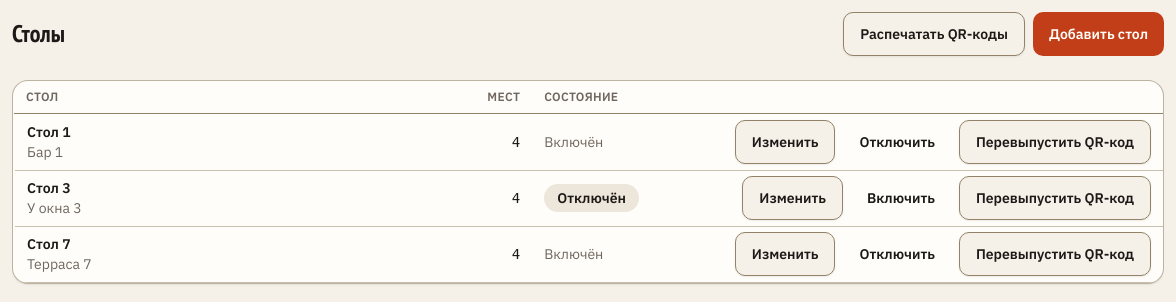
Test: TablesTable › puts a table back into service in one press
This screenshot has width=1176, height=302.
Click the button "Включить": [901, 198] box [851,176,951,220]
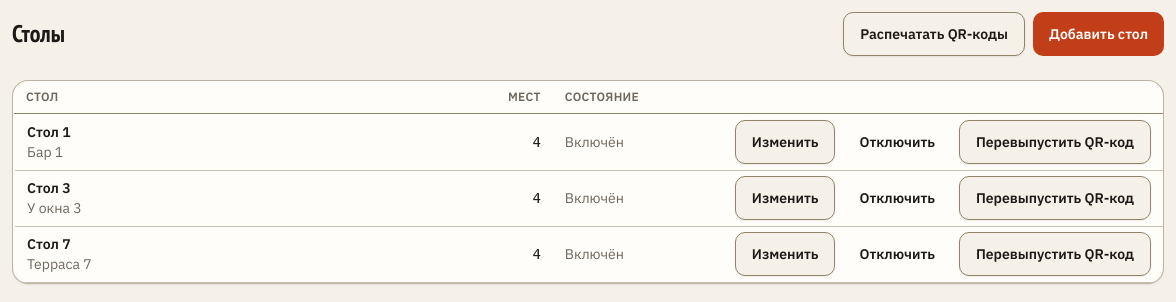
Check: the button "Отключить" in the row of "Стол 3" is shown, box [844,176,951,220]
